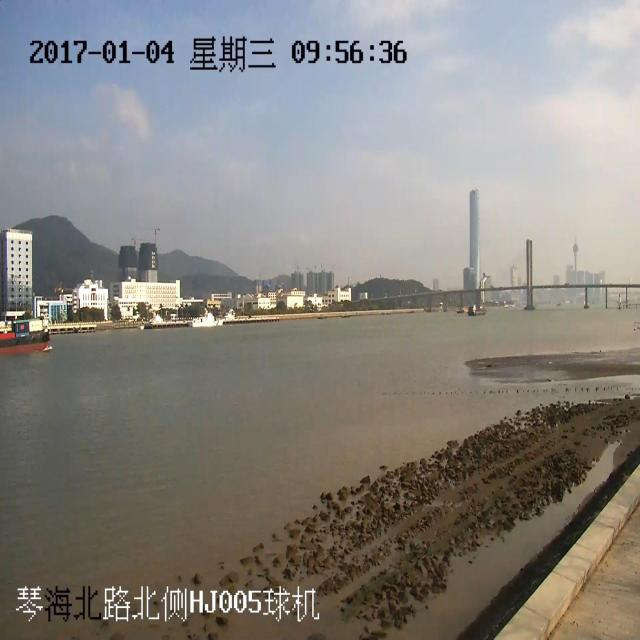cargoship: (9, 289, 55, 355)
